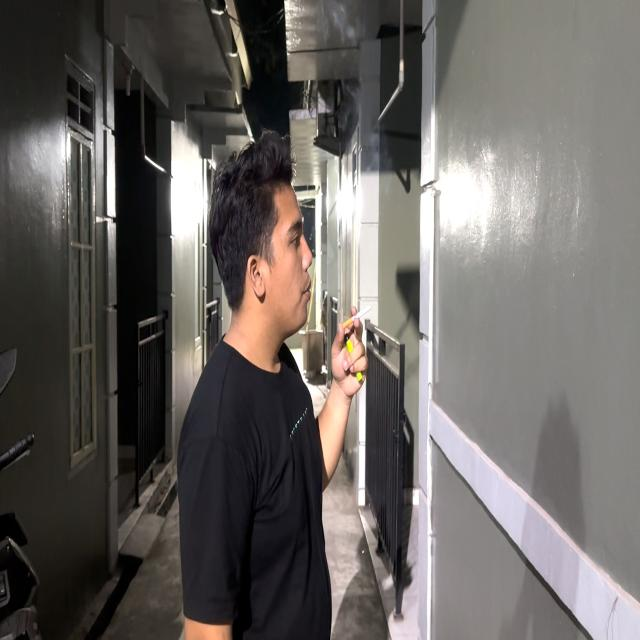cigarette: (341, 302, 374, 333)
smoking: (202, 132, 382, 501)
